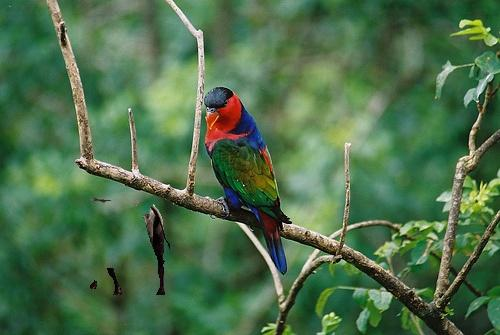tampered: (91, 199, 170, 295)
